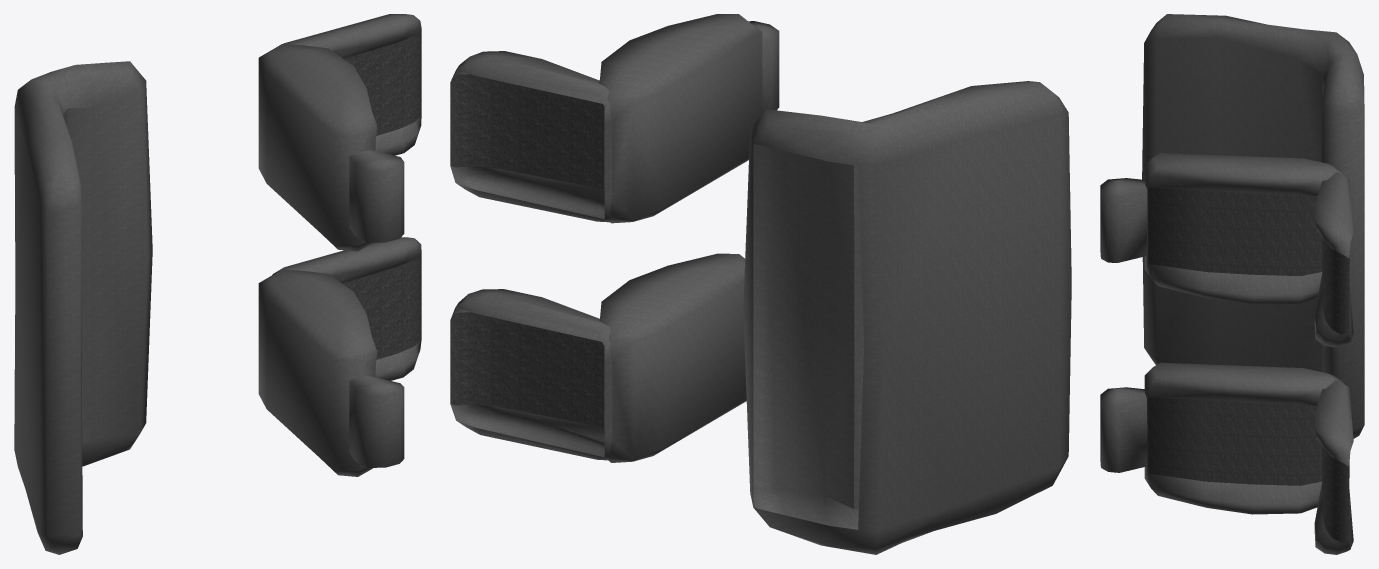
The model's file is seats.obj.
The picture shows the model from 3 angles, left to right: view 1: azimuth 30°, elevation 25°; view 2: azimuth 150°, elevation 25°; view 3: azimuth 270°, elevation 25°; orthographic projection. The views are drawn at different scales.
Size of the model in its own units: 1.62 by 1.31 by 0.8341.
Materials: 2 (2 with a texture image).
